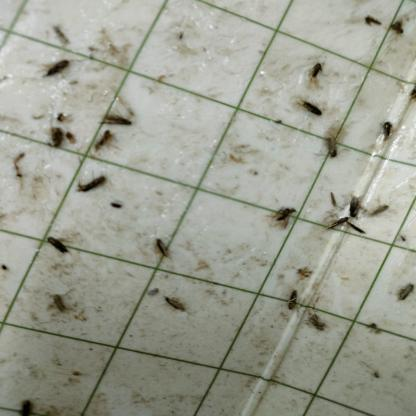prays_oleae: (268, 196, 302, 240), (41, 227, 70, 262), (42, 58, 74, 86), (76, 172, 109, 198), (160, 293, 190, 321), (149, 231, 174, 262), (100, 108, 133, 131), (282, 283, 301, 318), (377, 118, 396, 150), (394, 274, 413, 306), (306, 57, 326, 87), (92, 128, 115, 154), (299, 97, 325, 120), (364, 10, 386, 37), (46, 293, 70, 317), (324, 132, 342, 163), (347, 189, 362, 222), (327, 212, 350, 233), (388, 12, 404, 40), (307, 308, 324, 334), (292, 262, 314, 280), (348, 221, 366, 241), (370, 204, 389, 222), (329, 189, 342, 210)
